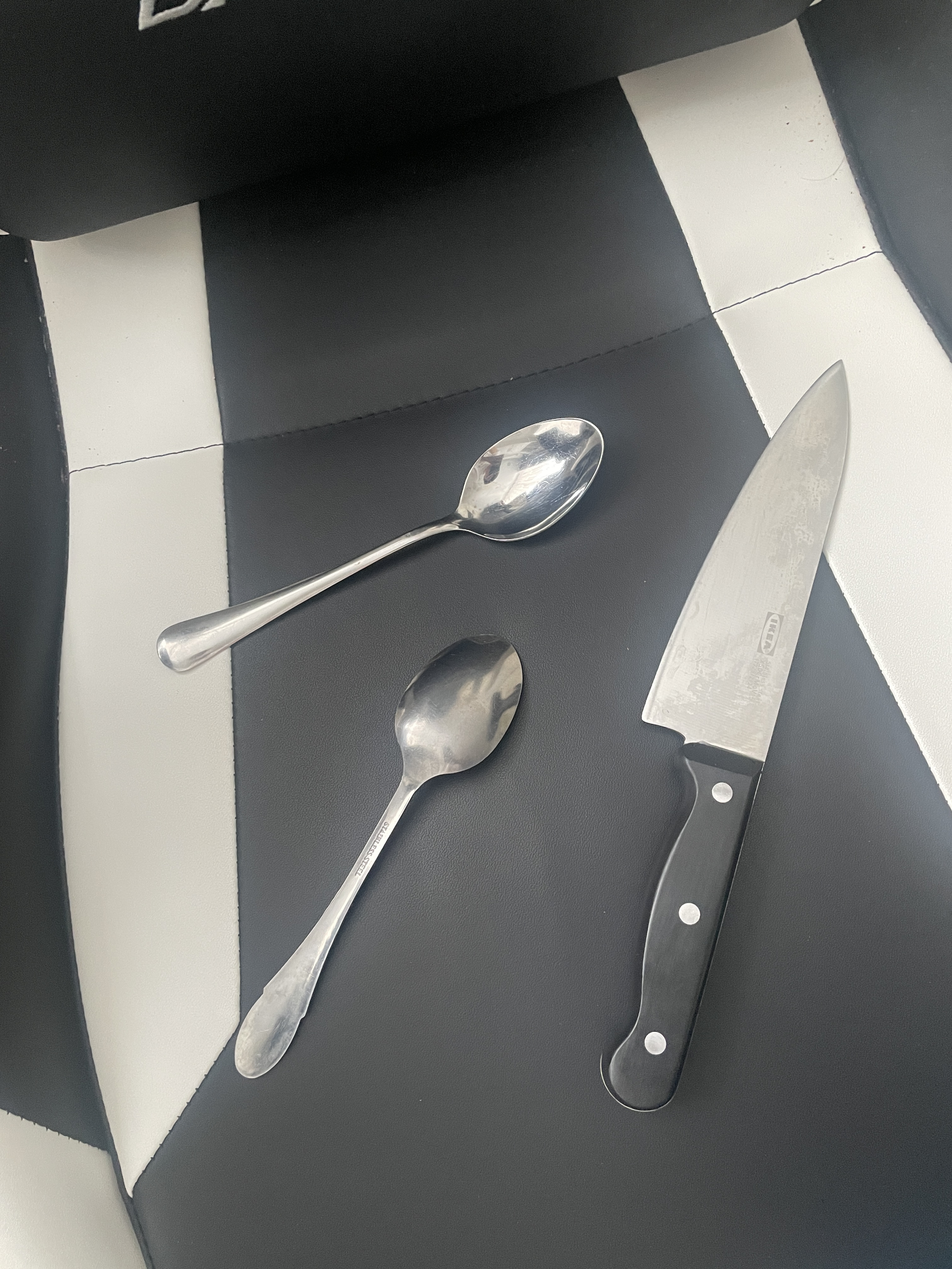knife: (604, 362, 850, 1111)
spoon: (235, 636, 522, 1078), (157, 418, 604, 673)
